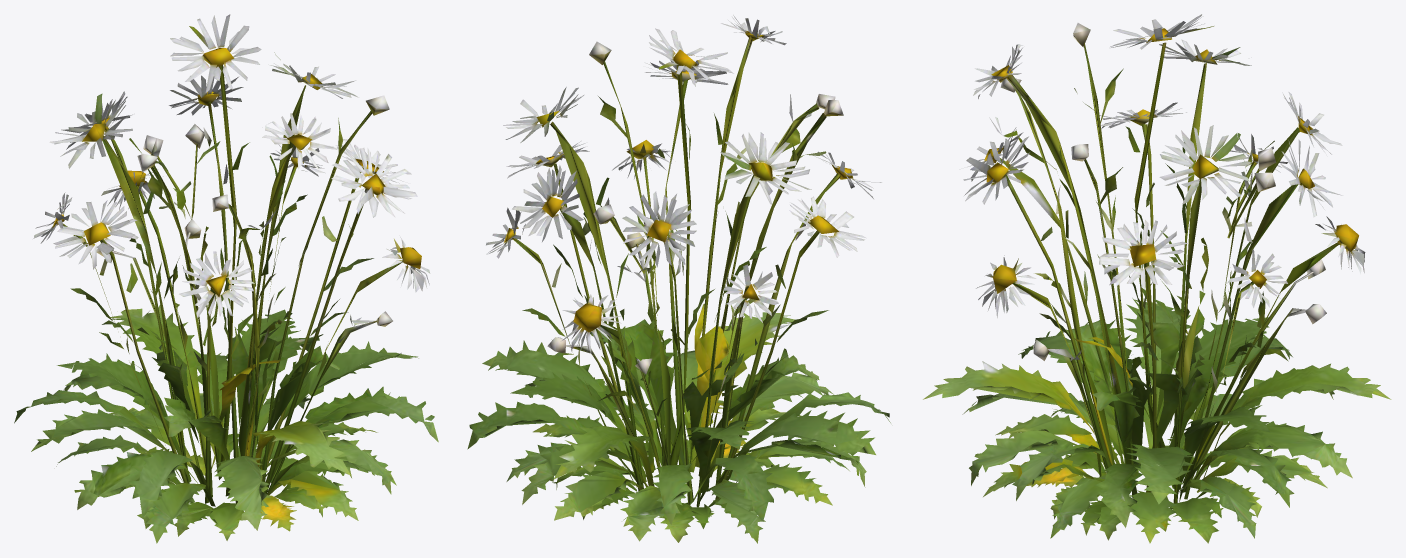
File: margaritas_1_LOD2.glb
3 renders of one model, left to right at view 1: azimuth 30°, elevation 25°; view 2: azimuth 150°, elevation 25°; view 3: azimuth 270°, elevation 25°, orthographic. The views are drawn at different scales.
Parts seen in each view (by area): view 1: tripo_node_9859cf5e-fe7d-4159-aad5-e9121052a4d0; view 2: tripo_node_9859cf5e-fe7d-4159-aad5-e9121052a4d0; view 3: tripo_node_9859cf5e-fe7d-4159-aad5-e9121052a4d0.
Boxes of the visible parts, x1,y1,x2,y2 form: tripo_node_9859cf5e-fe7d-4159-aad5-e9121052a4d0: (14, 14, 438, 543); tripo_node_9859cf5e-fe7d-4159-aad5-e9121052a4d0: (467, 15, 890, 543); tripo_node_9859cf5e-fe7d-4159-aad5-e9121052a4d0: (923, 14, 1391, 543).
Size of the model in its own units: 0.8801 by 1 by 0.8823.
1 material, 1 textured.
